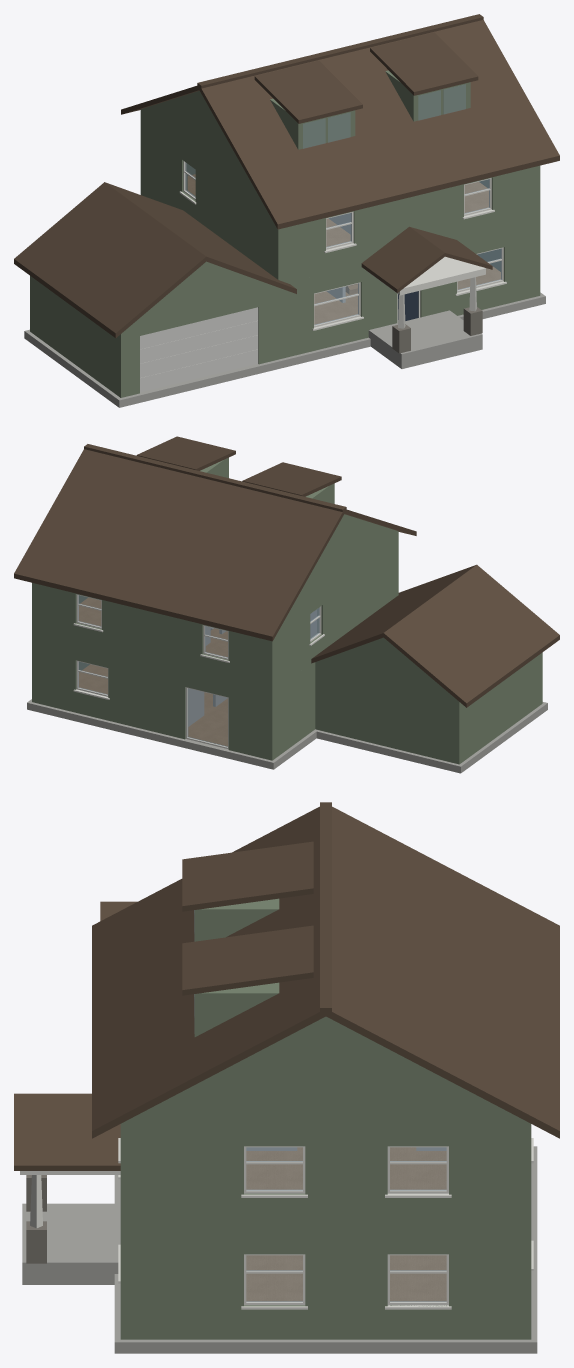
File: house.glb
3 renders of one model, top to bottom at view 1: azimuth 30°, elevation 25°; view 2: azimuth 150°, elevation 25°; view 3: azimuth 270°, elevation 25°, orthographic. The views are drawn at different scales.
Parts seen in each view (by area): view 1: Roof - Roof shingles, brown, Exterior walls - Siding, sage green, Attached 2-car garage - Roof shingles, brown, Attached 2-car garage - Siding, sage green, Roof - Siding, sage green, Attached 2-car garage - Garage door, white panels, Front porch with stone piers - Roof shingles, brown, Glazing - Glazing (alpha-blended), Front porch with stone piers - Plinth and steps, concrete, Attached 2-car garage - Plinth and steps, concrete, Floors - Floor slabs, oak finish, Roof - Glazing (alpha-blended) (+4 smaller); view 2: Roof - Roof shingles, brown, Exterior walls - Siding, sage green, Attached 2-car garage - Siding, sage green, Attached 2-car garage - Roof shingles, brown, Glazing - Glazing (alpha-blended), Roof - Siding, sage green, Floors - Floor slabs, oak finish, Floors - Plinth and steps, concrete, Attached 2-car garage - Plinth and steps, concrete, Windows - Trim, windows and doors, white, Interior walls - Interior walls, white plaster; view 3: Roof - Roof shingles, brown, Exterior walls - Siding, sage green, Roof - Siding, sage green, Glazing - Glazing (alpha-blended), Floors - Floor slabs, oak finish, Floors - Plinth and steps, concrete, Front porch with stone piers - Roof shingles, brown, Front porch with stone piers - Plinth and steps, concrete, Windows - Trim, windows and doors, white, Front porch with stone piers - Stone piers and chimney, grey, Front porch with stone piers - Trim, windows and doors, whit.
Part boxes in pixels (x1,y1,x2,y2): Roof - Roof shingles, brown: (121, 14, 559, 229); Exterior walls - Siding, sage green: (140, 110, 540, 359); Attached 2-car garage - Roof shingles, brown: (14, 182, 296, 338); Attached 2-car garage - Siding, sage green: (30, 261, 278, 397); Roof - Siding, sage green: (141, 70, 470, 195); Attached 2-car garage - Garage door, white panels: (140, 307, 258, 392); Front porch with stone piers - Roof shingles, brown: (361, 226, 492, 292); Glazing - Glazing (alpha-blended): (185, 162, 501, 325); Front porch with stone piers - Plinth and steps, concrete: (368, 310, 482, 368); Attached 2-car garage - Plinth and steps, concrete: (24, 329, 279, 407); Floors - Floor slabs, oak finish: (188, 174, 500, 324); Roof - Glazing (alpha-blended): (303, 84, 465, 148); Roof - Roof shingles, brown: (14, 436, 416, 641); Exterior walls - Siding, sage green: (32, 531, 398, 760); Attached 2-car garage - Siding, sage green: (315, 637, 542, 764); Attached 2-car garage - Roof shingles, brown: (311, 564, 559, 707); Glazing - Glazing (alpha-blended): (78, 595, 319, 746); Roof - Siding, sage green: (200, 457, 397, 610); Floors - Floor slabs, oak finish: (79, 598, 227, 746); Floors - Plinth and steps, concrete: (27, 699, 316, 769); Attached 2-car garage - Plinth and steps, concrete: (313, 702, 547, 773); Windows - Trim, windows and doors, white: (73, 594, 324, 749); Interior walls - Interior walls, white plaster: (188, 609, 316, 726); Roof - Roof shingles, brown: (92, 802, 559, 1138); Exterior walls - Siding, sage green: (120, 1116, 531, 1339); Roof - Siding, sage green: (135, 898, 516, 1116); Glazing - Glazing (alpha-blended): (246, 1147, 446, 1301); Floors - Floor slabs, oak finish: (246, 1147, 446, 1300); Floors - Plinth and steps, concrete: (114, 1146, 537, 1353); Front porch with stone piers - Roof shingles, brown: (14, 1093, 120, 1170); Front porch with stone piers - Plinth and steps, concrete: (22, 1203, 120, 1284); Windows - Trim, windows and doors, white: (118, 1138, 533, 1309); Front porch with stone piers - Stone piers and chimney, grey: (26, 1175, 46, 1263); Front porch with stone piers - Trim, windows and doors, whit: (20, 1171, 120, 1228).
Bounding box in the file's own units: 18.52 × 9.42 × 13.3.
Materials: 11 (11 with a texture image).
